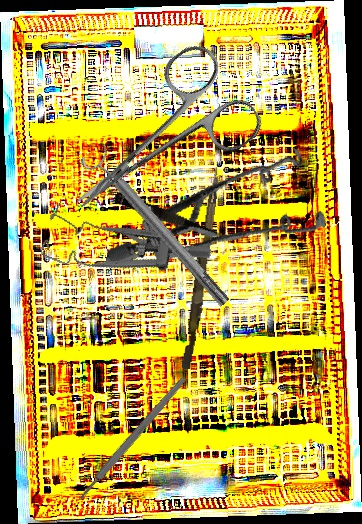Fixation Ring: (78, 140, 237, 315)
Iris Scissors: (42, 37, 269, 246)
Micro Scissor: (112, 190, 224, 244)
Pusher: (181, 165, 221, 371)
Scalpel Handle: (76, 375, 188, 502)
Speculum: (105, 110, 342, 313), (34, 187, 215, 313)
